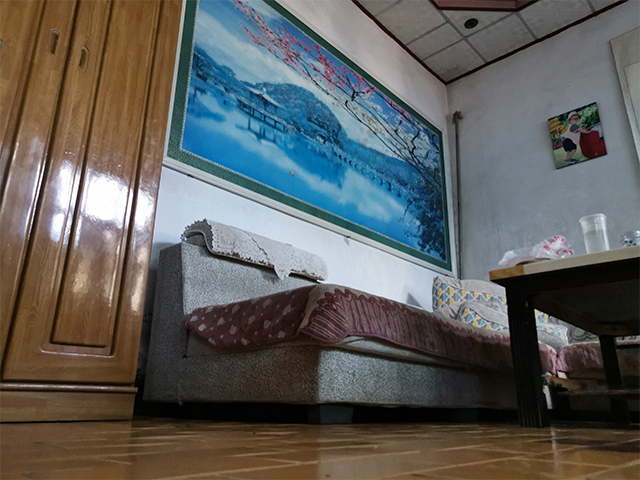cabinet: (1, 1, 188, 424)
sofa: (140, 217, 599, 426)
table: (487, 245, 640, 428)
